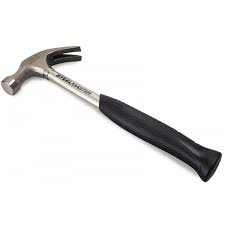martillu: (1, 44, 223, 185)
